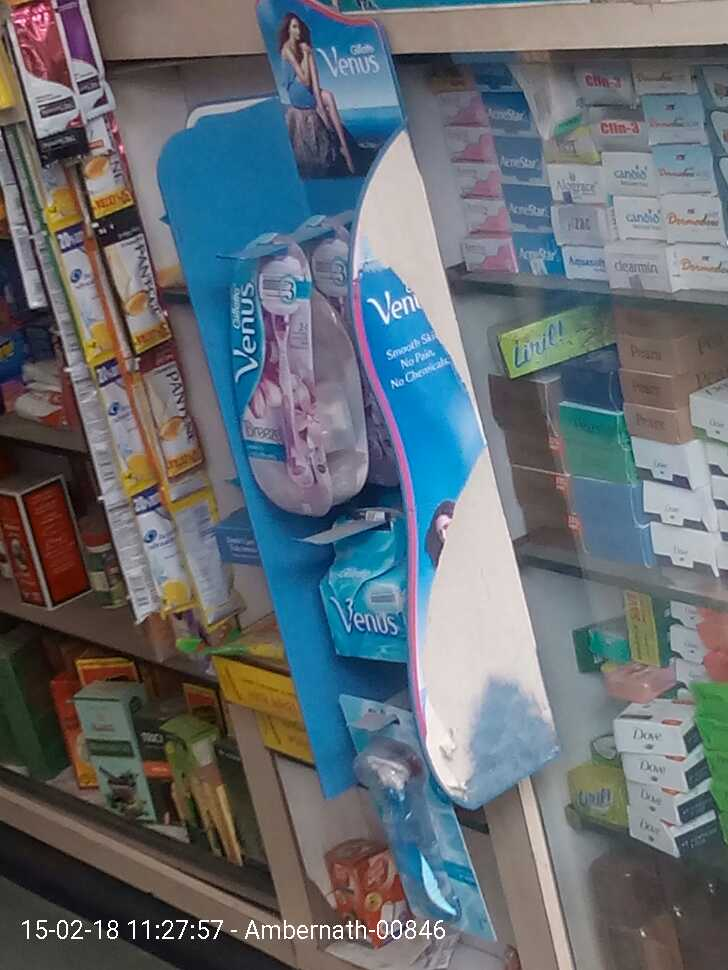beauty: (339, 690, 503, 939), (225, 228, 342, 513), (315, 543, 415, 662), (50, 230, 118, 374), (98, 236, 174, 360), (136, 363, 206, 466), (100, 386, 153, 484)
